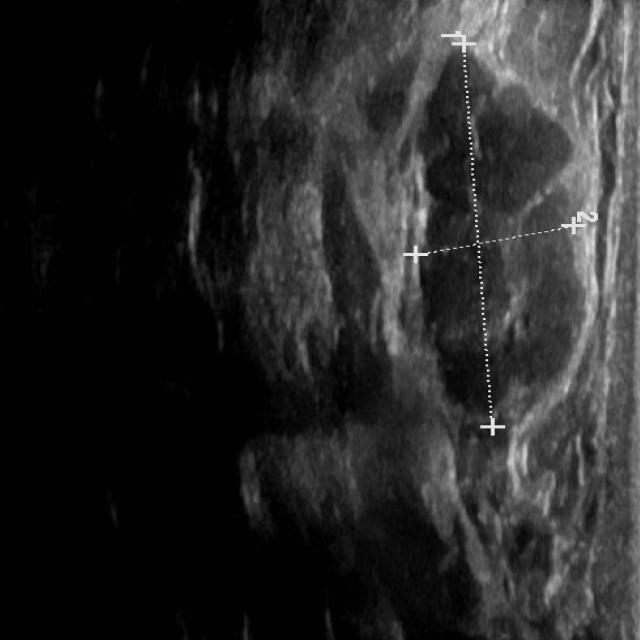Benign: (420, 91, 576, 398)
